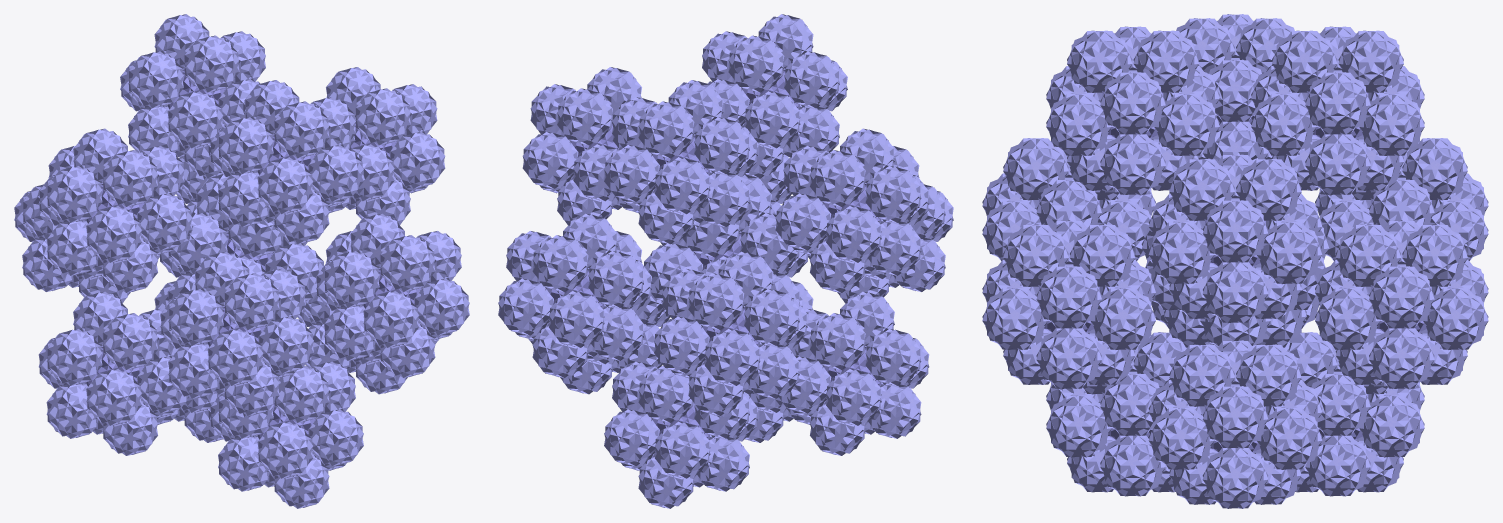
Rendered from fractalicosidodecadodecahedron2.glb.
3 renders of one model, left to right at view 1: azimuth 30°, elevation 25°; view 2: azimuth 150°, elevation 25°; view 3: azimuth 270°, elevation 25°, orthographic. The views are drawn at different scales.
Size of the model in its own units: 10.21 by 10.21 by 10.21.
